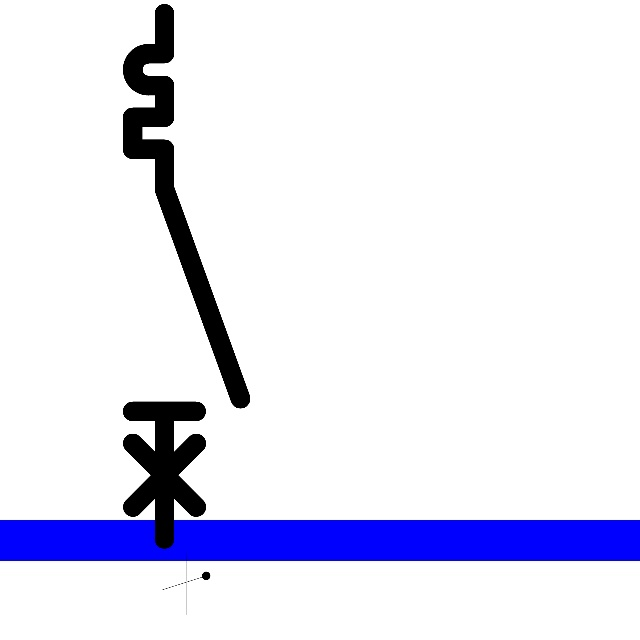interruptor_termomagnetico: (119, 0, 254, 552)
